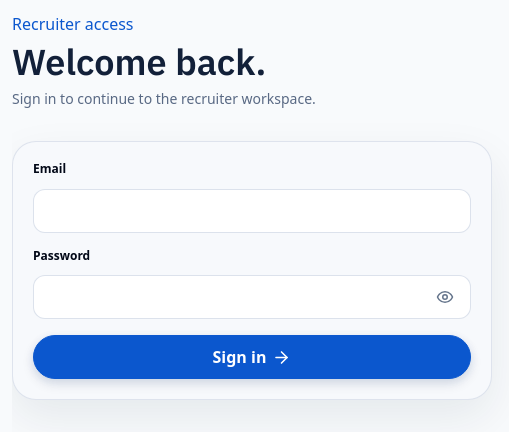
Test: RecruiterLoginExperience › keeps sign-in pending after navigation accepts the handoff
The width and height of the screenshot is (509, 432).
Type "recruiter@example.com" into the field labelled "Email" at (252, 211), box x1=33 y1=189 x2=471 y2=233
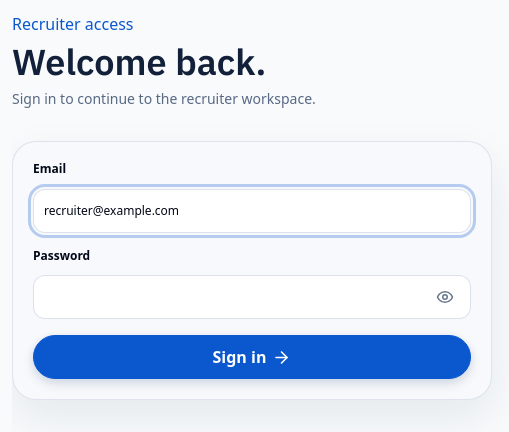
Type "recruiter-password" into the password field labelled "Password" at (252, 297), box x1=33 y1=275 x2=471 y2=319
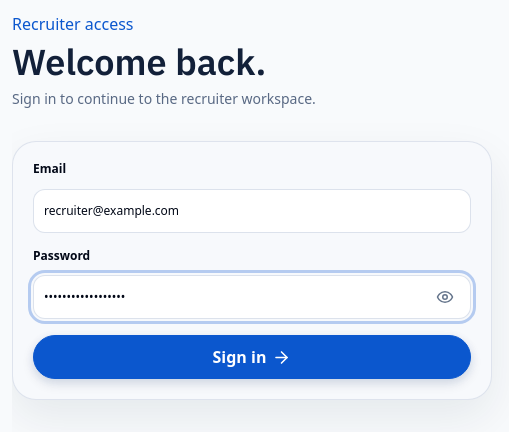
Click the button "Sign in" at (252, 357), box x1=33 y1=335 x2=471 y2=379
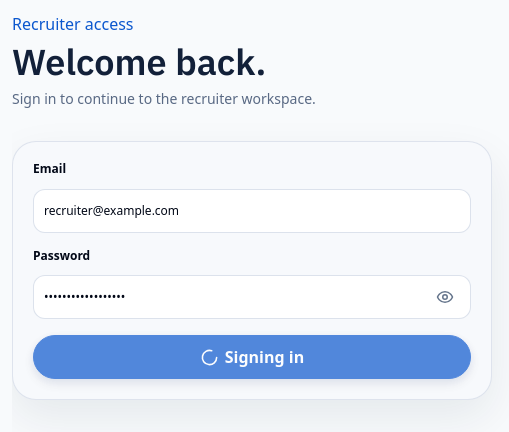
Check: the button "Signing in" is disabled, box x1=33 y1=335 x2=471 y2=379
